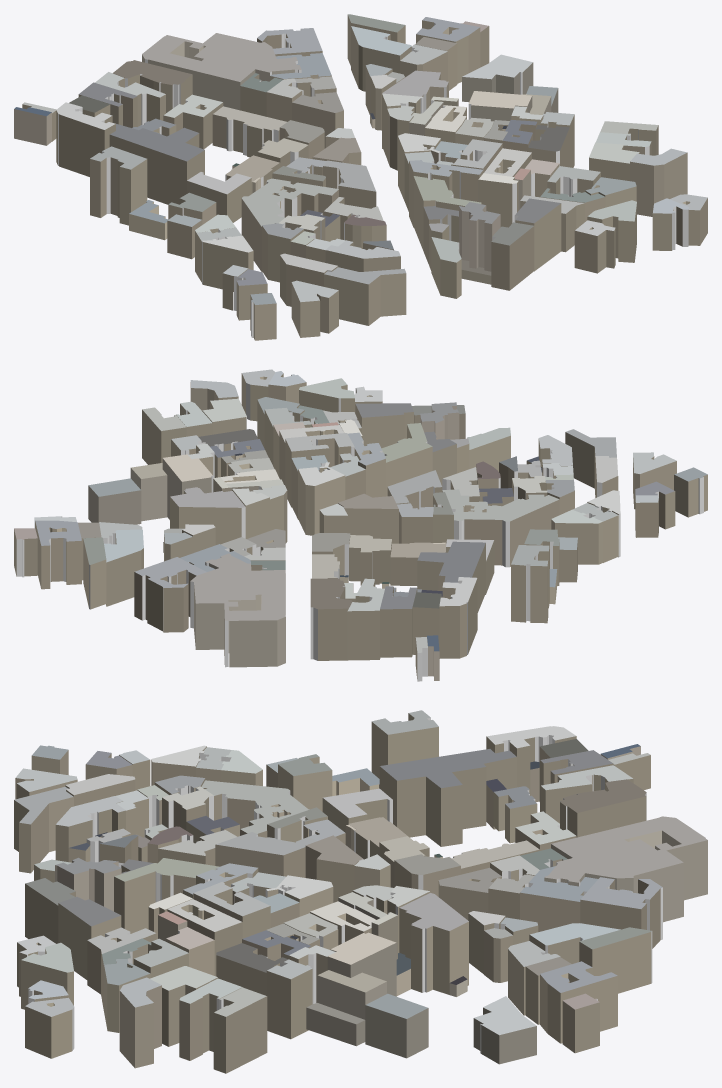
The picture shows the model from 3 angles, top to bottom: view 1: azimuth 30°, elevation 25°; view 2: azimuth 150°, elevation 25°; view 3: azimuth 270°, elevation 25°; orthographic projection. The views are drawn at different scales.
Parts seen in each view (by area): view 1: tuile; view 2: tuile; view 3: tuile.
Boxes of the visible parts, box(x1,y1,x2,y2) form: tuile: box(14, 14, 707, 340); tuile: box(14, 369, 707, 681); tuile: box(14, 710, 707, 1073).
Size of the model in its own units: 273 by 38.82 by 287.
